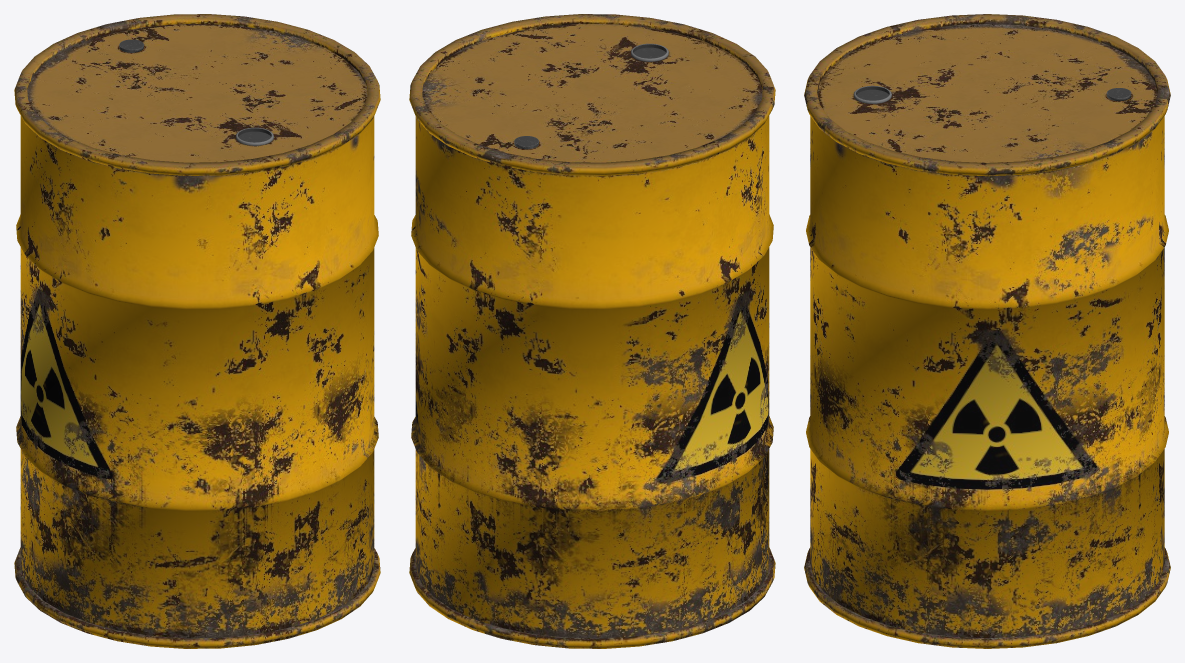
The model's file is radioactive_barrel.glb.
The picture shows the model from 3 angles, left to right: view 1: azimuth 30°, elevation 25°; view 2: azimuth 150°, elevation 25°; view 3: azimuth 270°, elevation 25°; orthographic projection.
Visible parts, largest first — view 1: Barril; view 2: Barril; view 3: Barril.
Boxes of the visible parts, <box> form: Barril: <box>14,14,380,648</box>; Barril: <box>409,14,775,648</box>; Barril: <box>804,14,1170,648</box>.
Size of the model in its own units: 0.6809 by 0.986 by 0.6809.
1 material, 1 textured.
